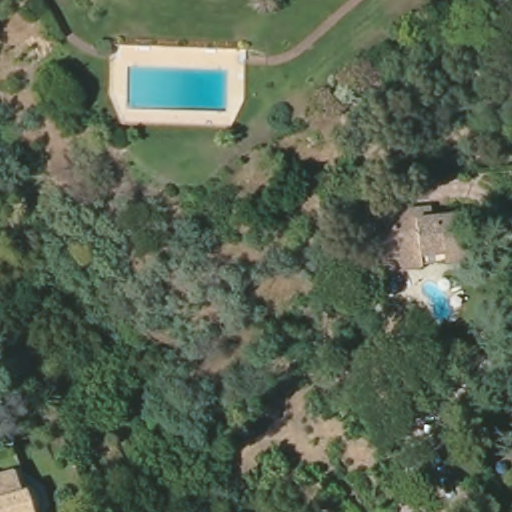pool: (122, 60, 232, 113), (417, 276, 458, 323)
